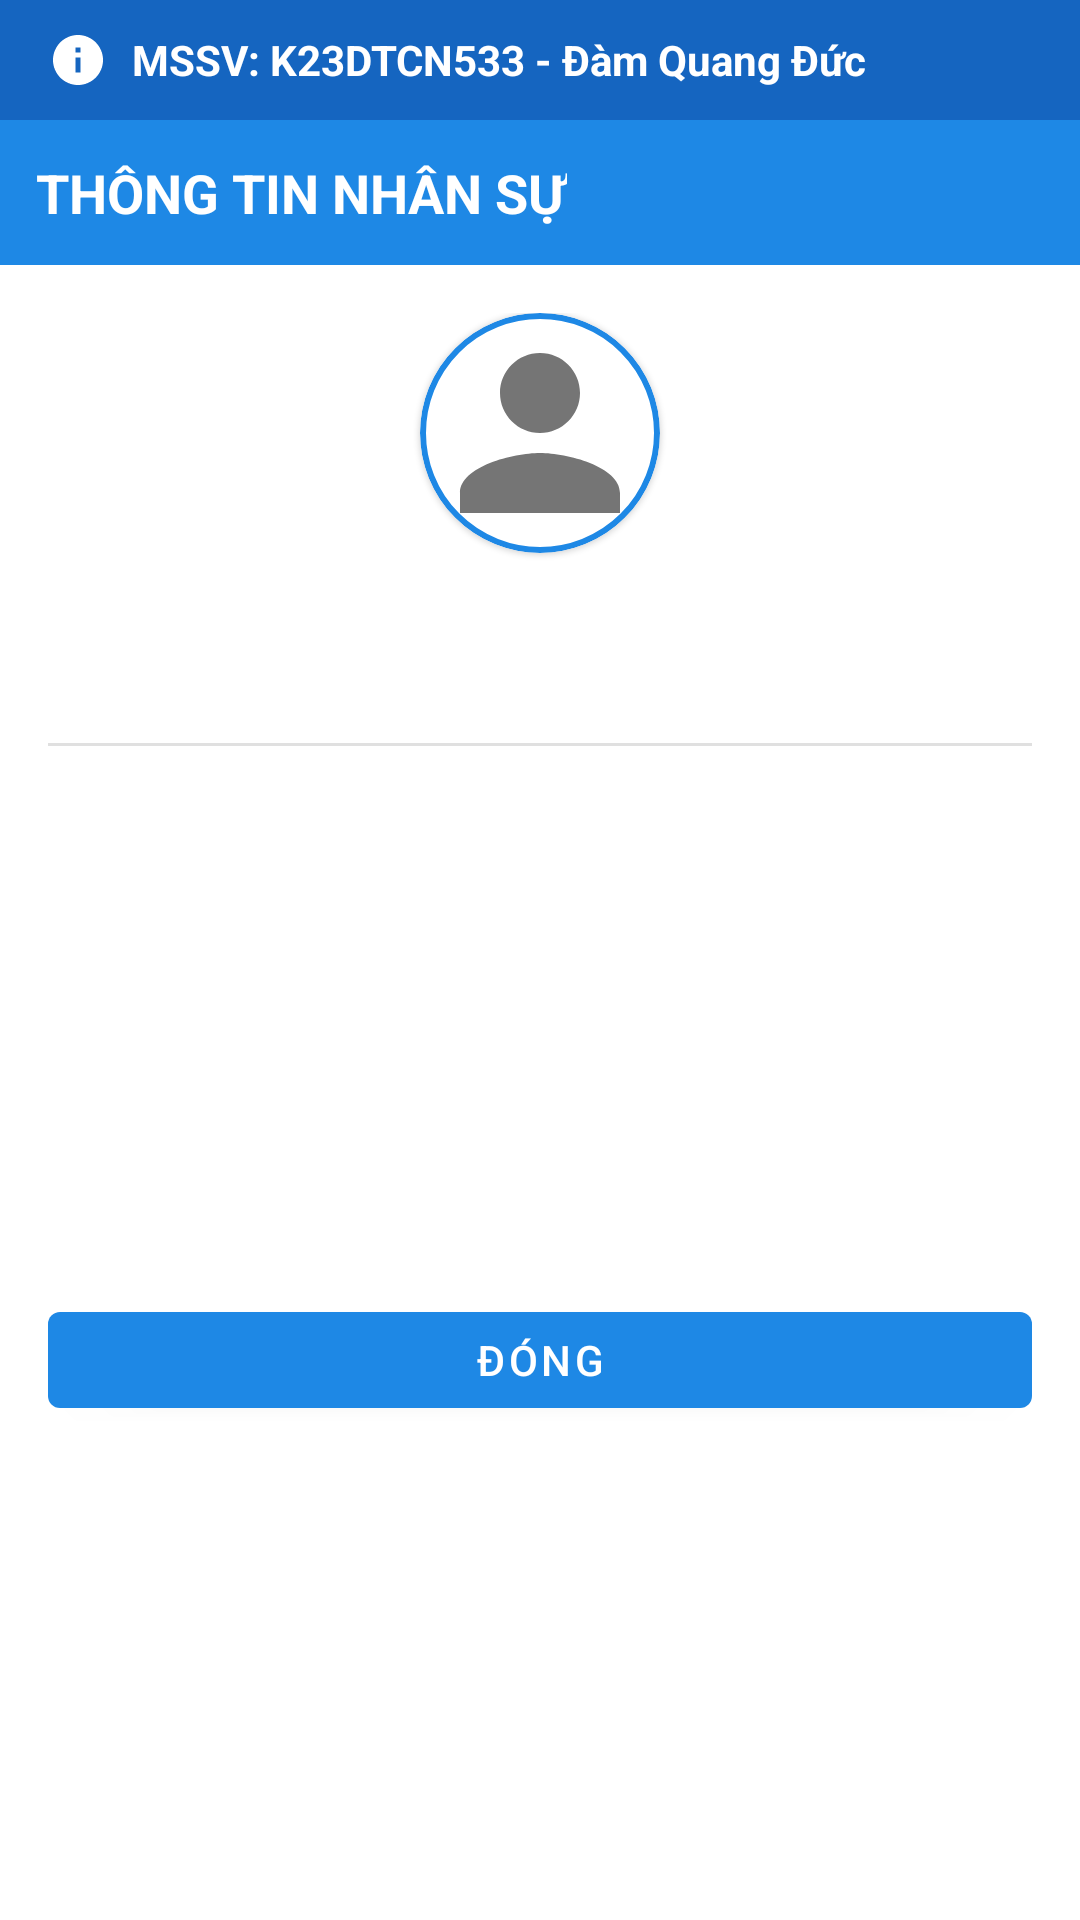

Where to tap for icons on this 1080*1920 app screen, as (x,y):
info: (78,60)
